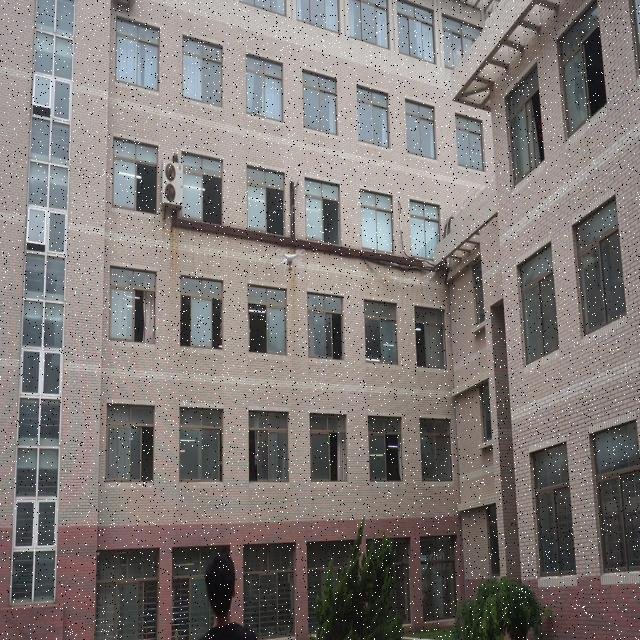UAV: (275, 248, 305, 274)
